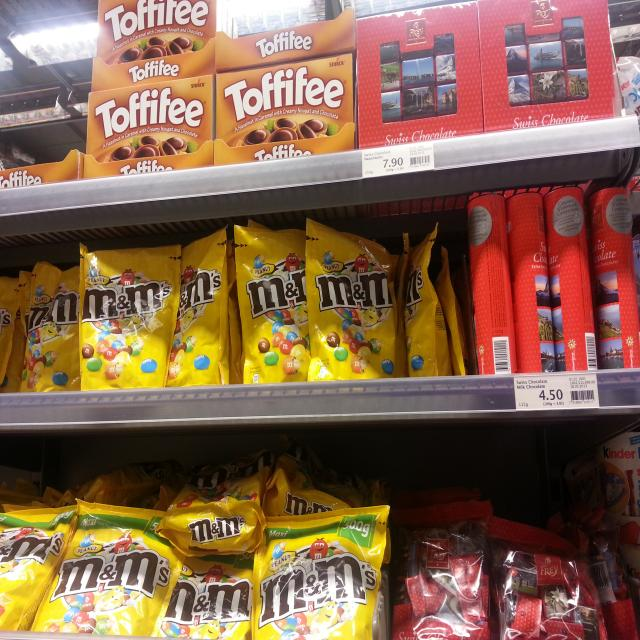Bombons: (217, 49, 358, 170), (492, 513, 608, 640), (86, 75, 216, 182), (389, 500, 488, 640), (88, 0, 221, 89)
chocolate: (34, 494, 187, 640), (248, 510, 397, 640), (475, 0, 618, 131), (354, 10, 486, 150), (300, 219, 398, 379), (82, 246, 182, 392), (146, 513, 258, 640), (231, 222, 312, 384), (0, 494, 88, 640), (458, 190, 517, 377), (544, 185, 598, 378), (164, 234, 230, 386), (583, 188, 639, 366), (506, 189, 556, 382), (19, 270, 82, 394)
